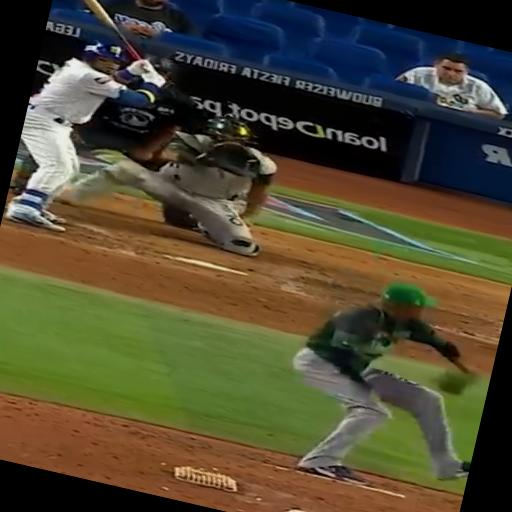bat: (81, 0, 141, 59), (447, 358, 471, 374)
